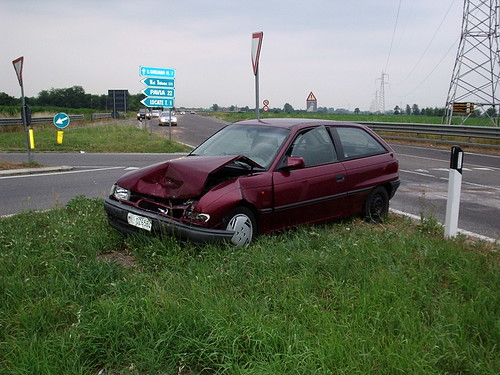car: (108, 113, 408, 241)
grass: (1, 207, 468, 375)
road: (159, 110, 500, 249)
sign: (128, 68, 176, 110), (246, 22, 270, 85), (6, 48, 35, 98)
